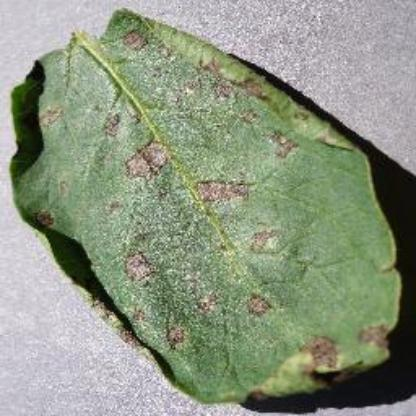Early-Blight: (10, 6, 406, 402)
